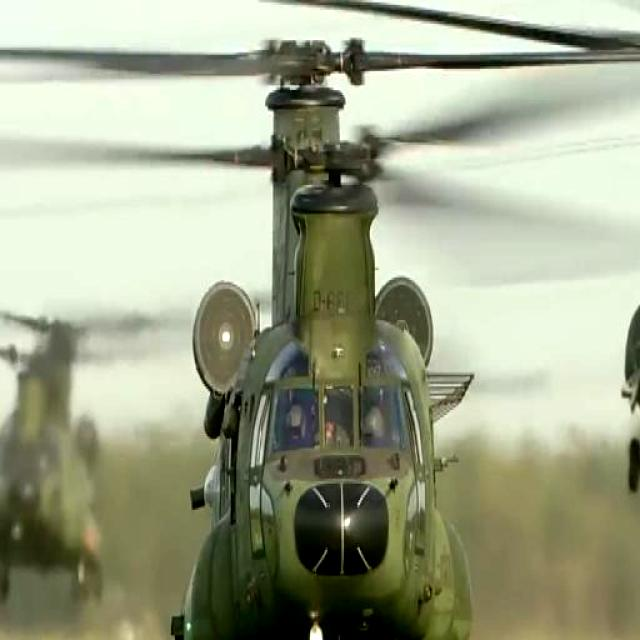drone: (0, 12, 640, 640), (256, 0, 640, 548)
